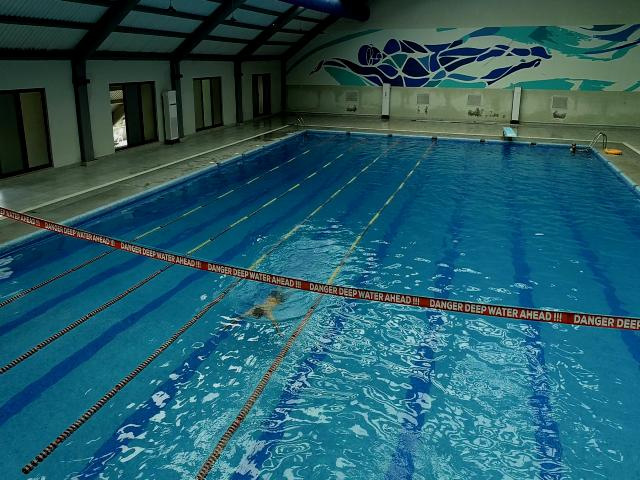swimming: (223, 284, 290, 346)
